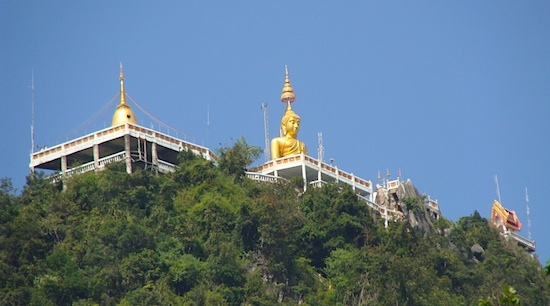Buddhist Temple: (260, 83, 307, 160)
